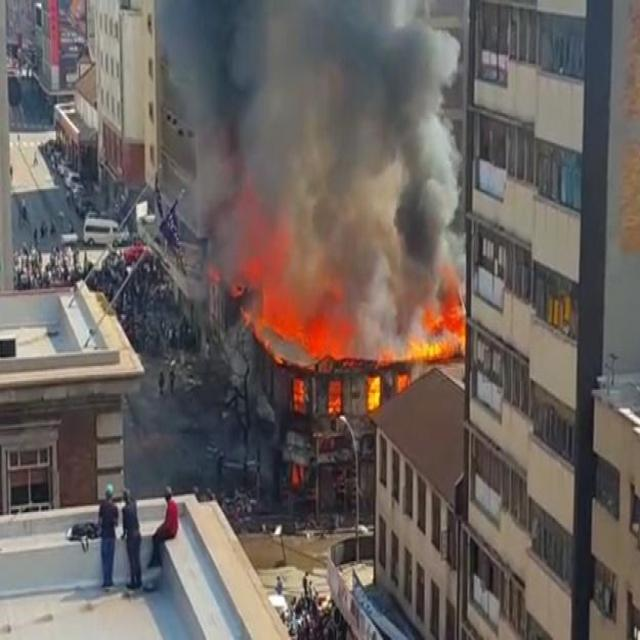Fire: (211, 243, 475, 412)
